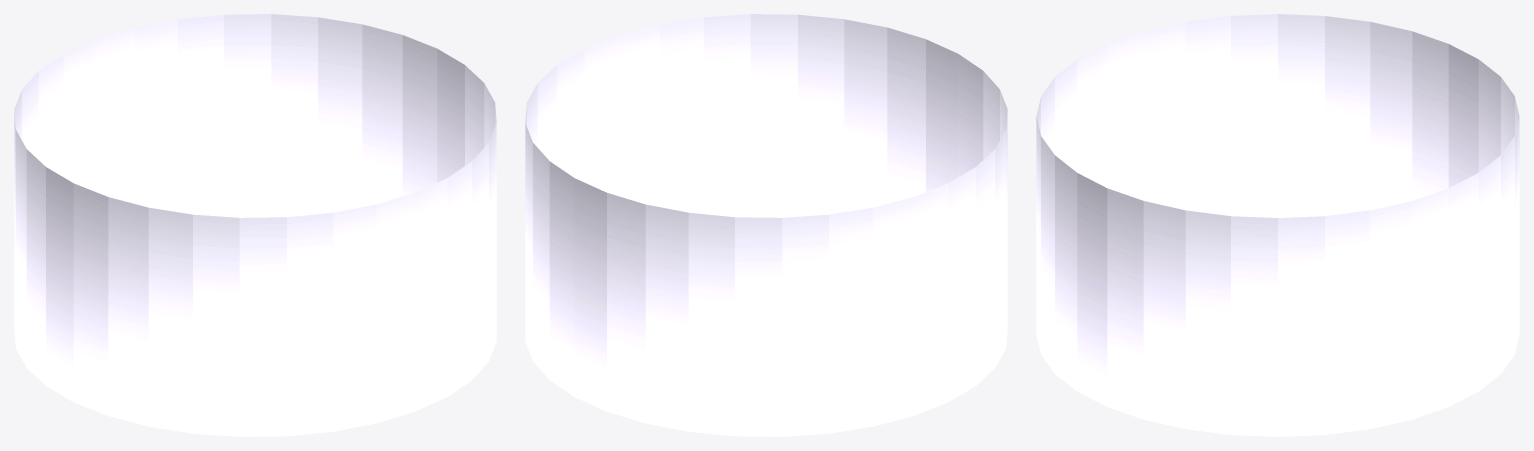
File: lb_beam_7.glb
3 views of the same model, side by side, from view 1: azimuth 30°, elevation 25°; view 2: azimuth 150°, elevation 25°; view 3: azimuth 270°, elevation 25° (orthographic).
Visible parts, largest first — view 1: lb_beam_7; view 2: lb_beam_7; view 3: lb_beam_7.
Boxes of the visible parts, x1,y1,x2,y2 form: lb_beam_7: (14,14,496,436); lb_beam_7: (525,14,1007,436); lb_beam_7: (1036,14,1519,436).
Bounding box in the file's own units: 2 × 1 × 2.
1 material, 1 textured.
